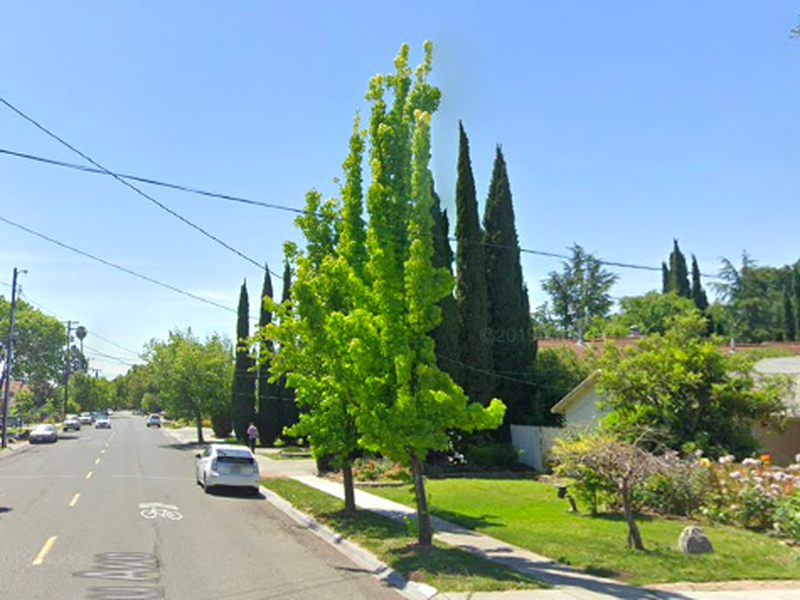tree: (328, 38, 507, 552), (236, 107, 379, 518)
